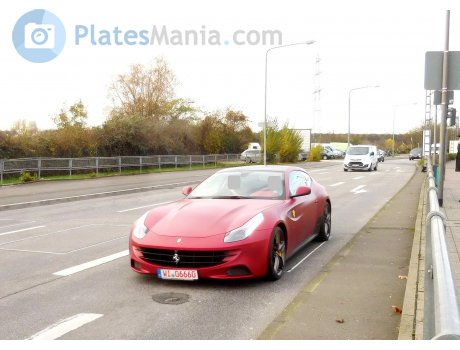License Plates: (158, 267, 195, 278)
